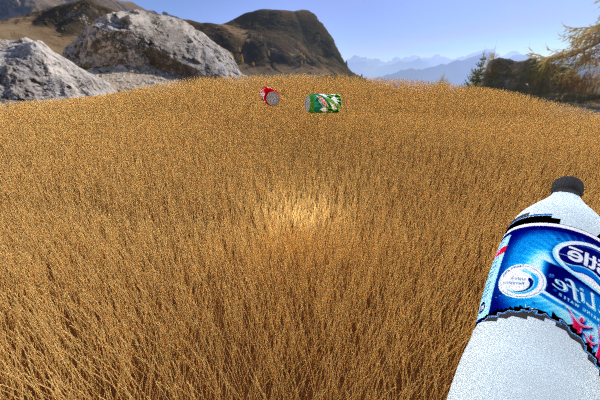bottle: (438, 176, 600, 400)
can: (304, 93, 341, 113), (259, 86, 279, 106)
